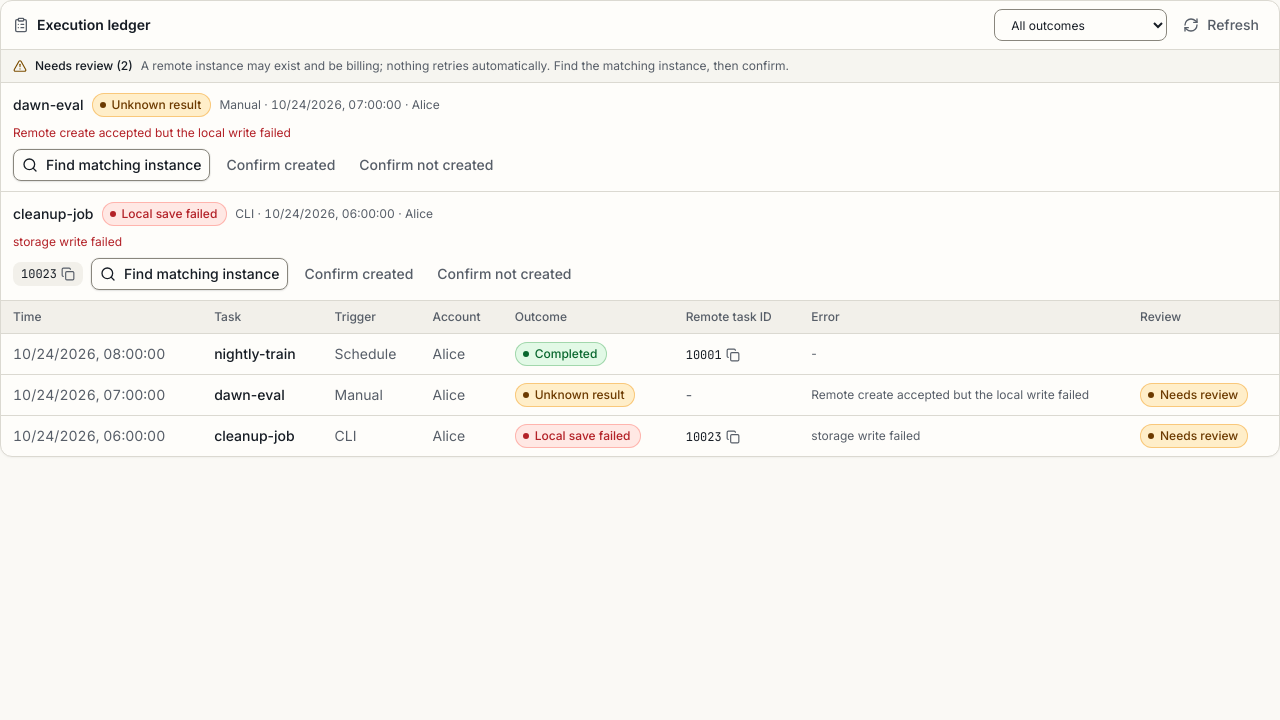
Test case: ExecutionLedgerPanel › confirms a run was created remotely with an optional remote id note, then moves it out of review
Expected: the list item "dawn-eval" is shown, left=13, top=96, right=84, bottom=113
Click the 1st button "Confirm created": (281, 165) left=218, top=149, right=343, bottom=181
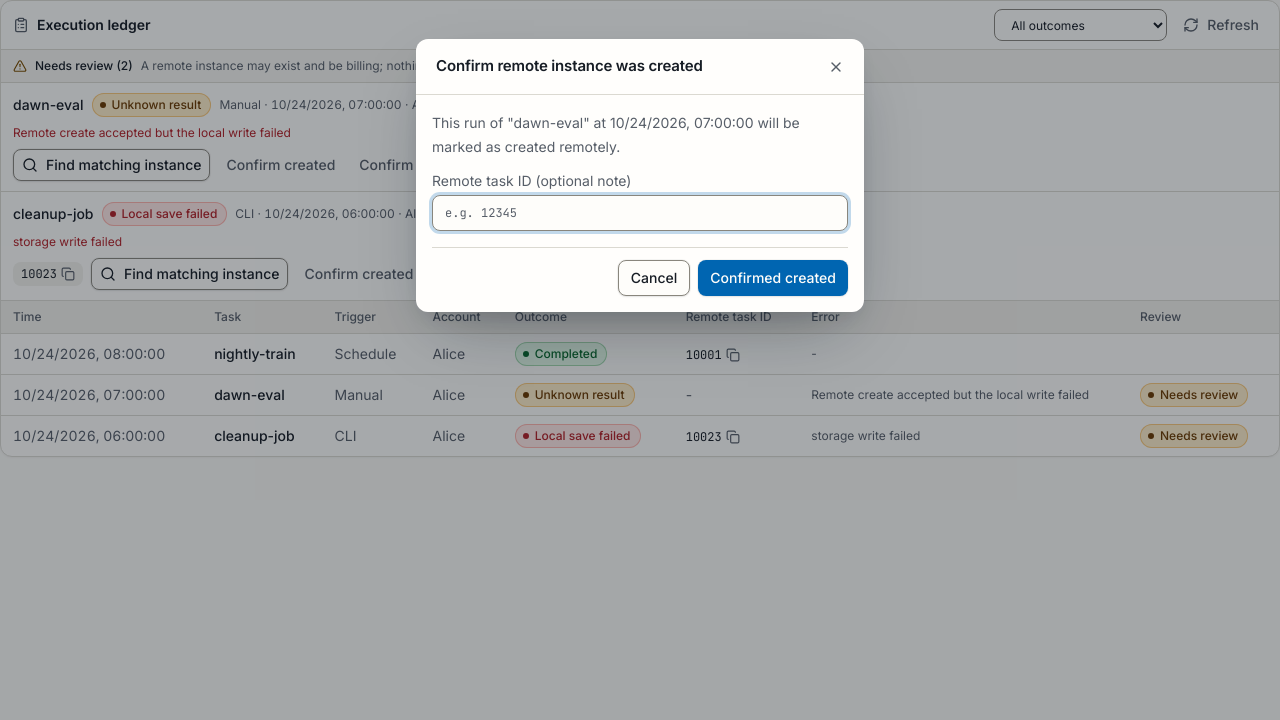
In the field labelled "Remote task ID (optional note)": (640, 213) left=432, top=195, right=848, bottom=231, type "10077"
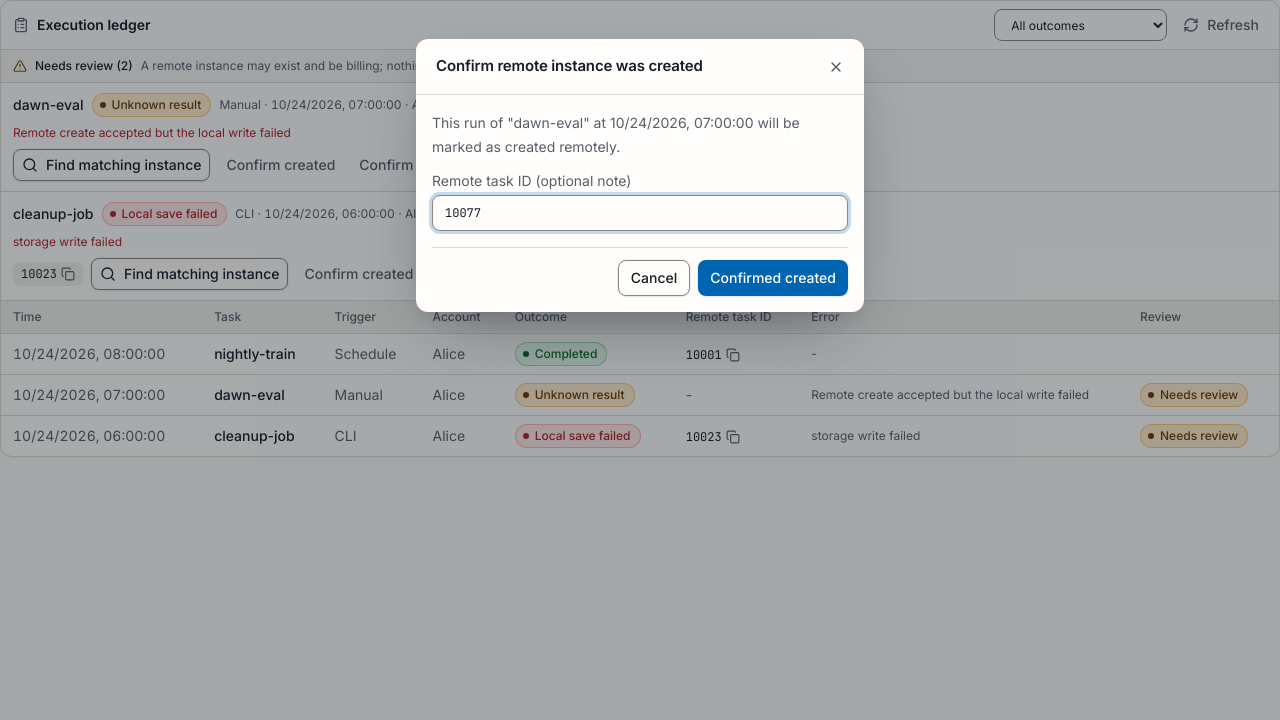
Click the button "Confirmed created": (773, 278) left=698, top=260, right=848, bottom=296
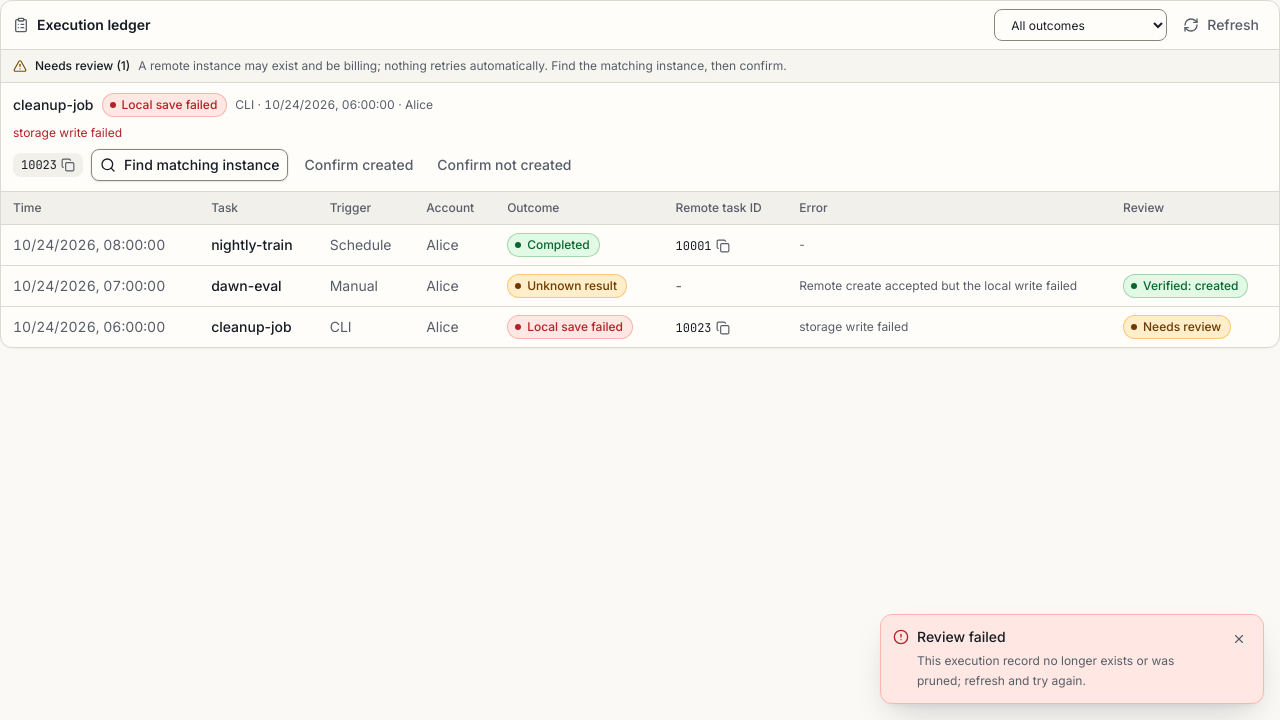
Expected: the text "dawn-eval" is shown, left=199, top=266, right=318, bottom=306
Expected: the text "Needs review (1)" is shown, left=35, top=58, right=130, bottom=74
Expected: the text "Verified: created" is shown, left=1123, top=274, right=1248, bottom=298
